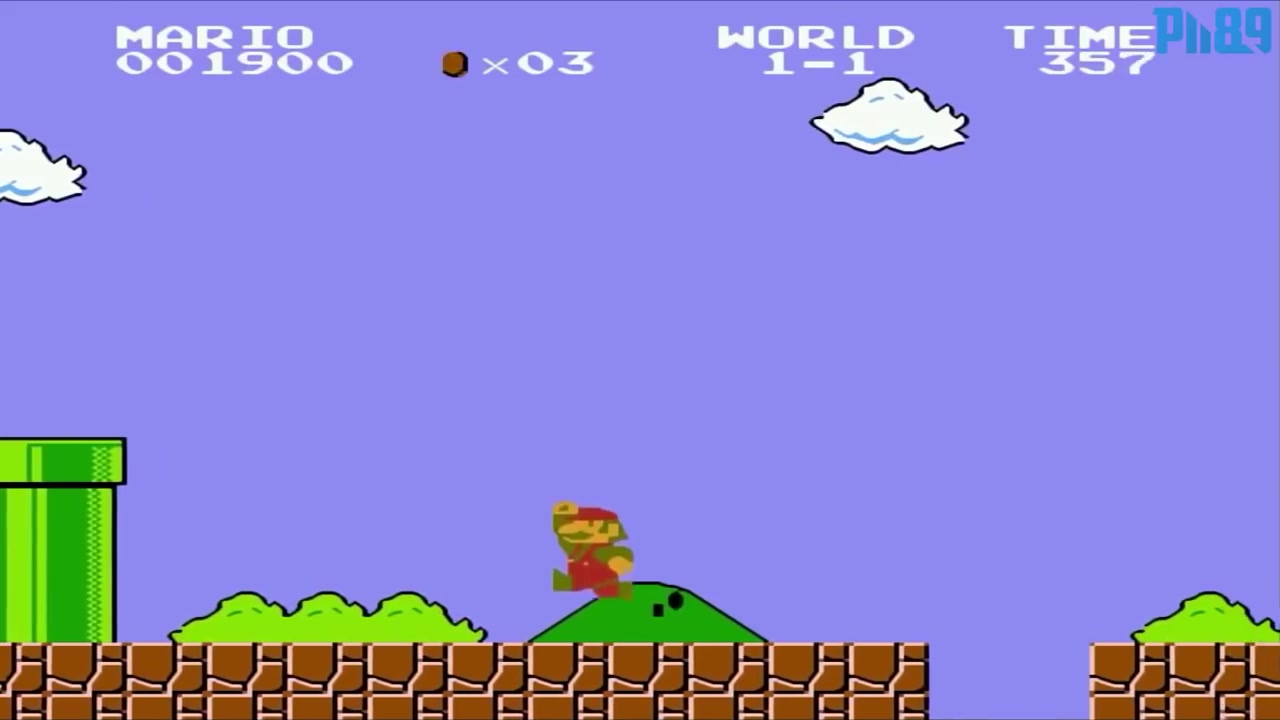mario: (537, 493, 642, 608)
